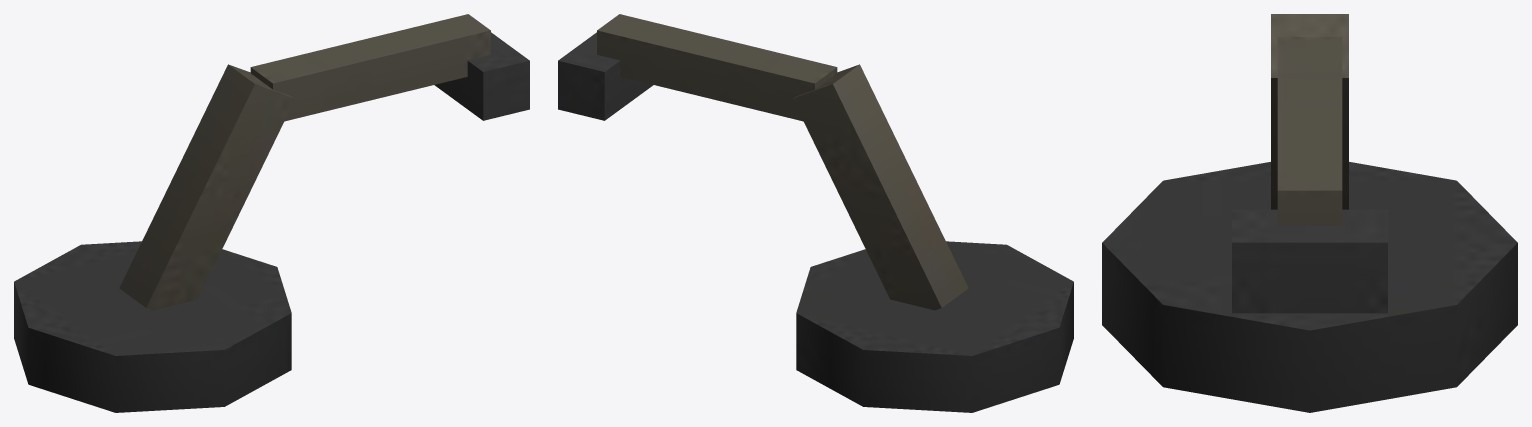
The model's file is stack-inserter.glb.
The picture shows the model from 3 angles, left to right: view 1: azimuth 30°, elevation 25°; view 2: azimuth 150°, elevation 25°; view 3: azimuth 270°, elevation 25°; orthographic projection. The views are drawn at different scales.
Parts seen in each view (by area): view 1: stack-inserter; view 2: stack-inserter; view 3: stack-inserter.
Part boxes in pixels (box(x1,y1,x2,y2)): stack-inserter: box(14, 14, 529, 412); stack-inserter: box(558, 14, 1073, 412); stack-inserter: box(1102, 14, 1517, 412).
Size of the model in its own units: 0.305 by 0.1587 by 0.16.
Materials: 1 (1 with a texture image).
